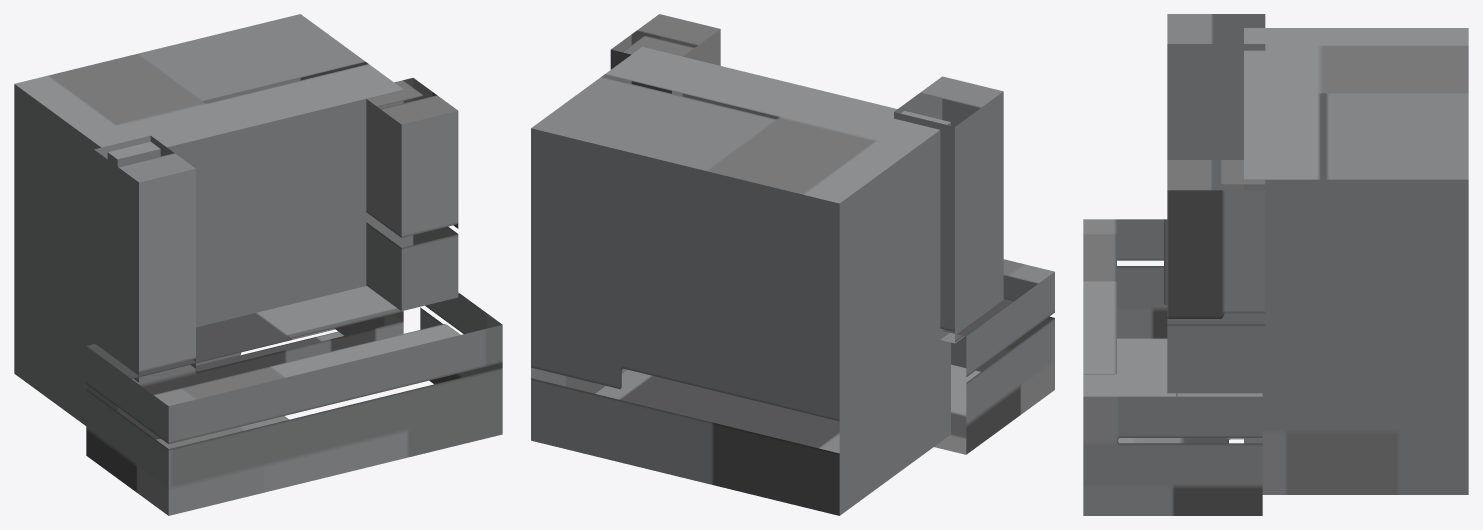
The picture shows the model from 3 angles, left to right: view 1: azimuth 30°, elevation 25°; view 2: azimuth 150°, elevation 25°; view 3: azimuth 270°, elevation 25°; orthographic projection. The views are drawn at different scales.
Size of the model in its own units: 0.9251 by 0.8021 by 0.8496.
